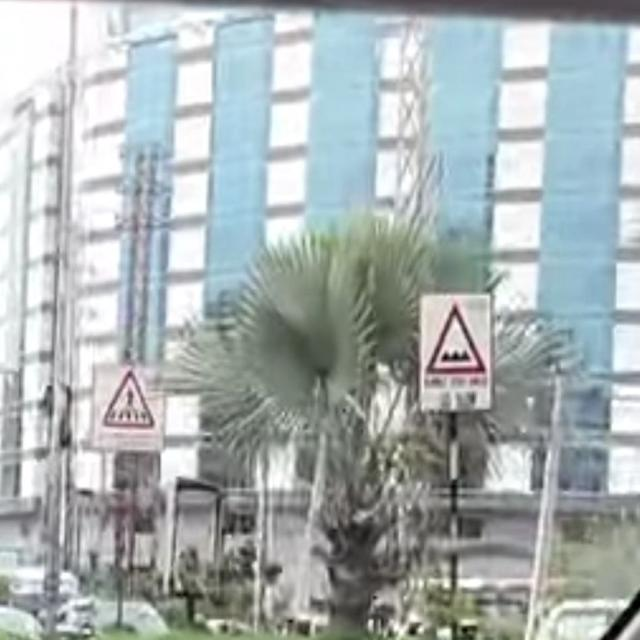Pedestrain_crossing: (86, 358, 168, 463)
Rumble_strip: (409, 285, 502, 426)
